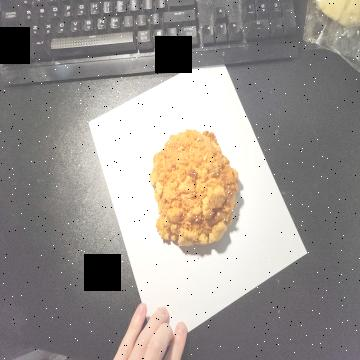soboru_bread: (149, 131, 238, 248)
